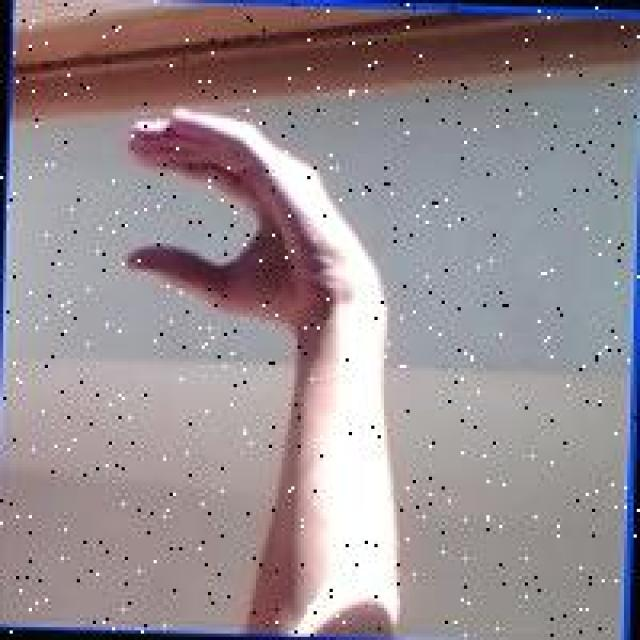C: (109, 93, 397, 358)
